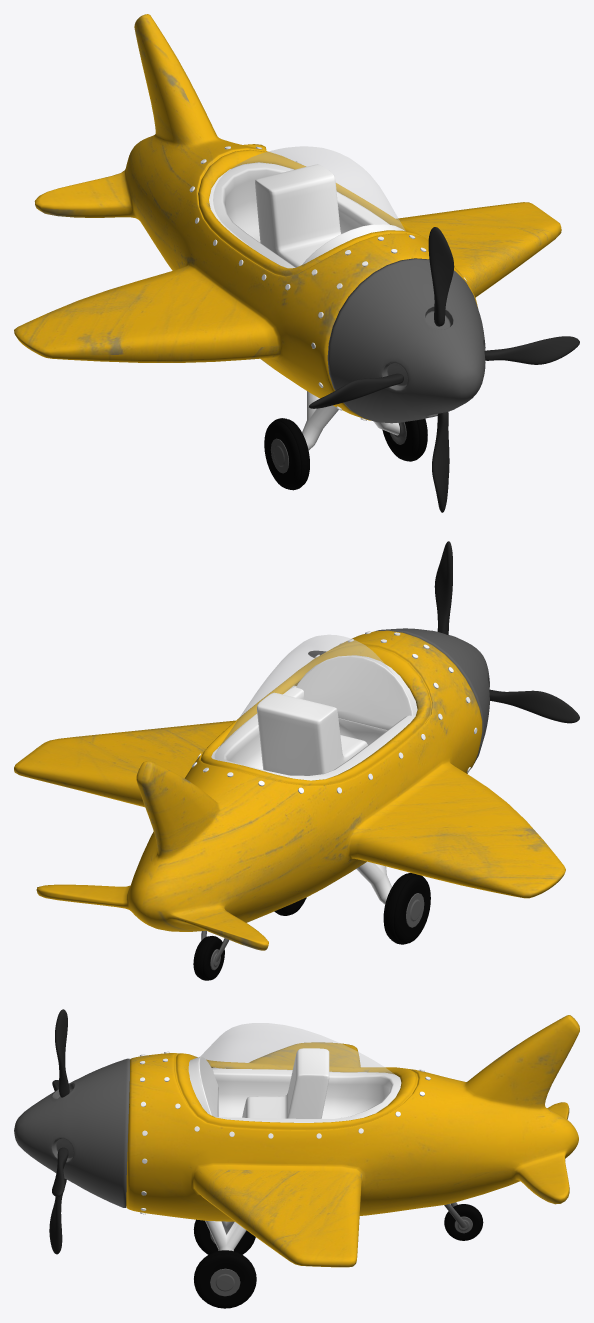
The model's file is toy_plane.glb.
The picture shows the model from 3 angles, top to bottom: view 1: azimuth 30°, elevation 25°; view 2: azimuth 150°, elevation 25°; view 3: azimuth 270°, elevation 25°; orthographic projection. The views are drawn at different scales.
Visible parts, largest first — view 1: Body_9, head_7, Window_11, Cube_17, Plane.004_8, Cube.001_82, front_wheels_13, Y_part_14, Cylinder_10, Circle.001_16; view 2: Body_9, Window_11, Cylinder_10, Cube_17, Plane.004_8, Cube.001_82, head_7, front_wheels_13, Circle.003_12, Y_part_14; view 3: Body_9, Window_11, head_7, Cube.001_82, Cube_17, front_wheels_13, Plane.004_8, Cylinder_10, Circle.003_12, Y_part_14, Circle.001_16.
Part boxes in pixels (left/top/right/bottom): Body_9: left=14, top=14, right=561, bottom=420; head_7: left=327, top=258, right=485, bottom=423; Window_11: left=213, top=146, right=405, bottom=267; Cube_17: left=255, top=164, right=340, bottom=267; Plane.004_8: left=309, top=227, right=579, bottom=512; Cube.001_82: left=209, top=162, right=389, bottom=268; front_wheels_13: left=264, top=418, right=427, bottom=490; Y_part_14: left=302, top=391, right=399, bottom=450; Cylinder_10: left=302, top=224, right=404, bottom=264; Circle.001_16: left=271, top=422, right=406, bottom=473; Body_9: left=14, top=630, right=565, bottom=950; Window_11: left=215, top=635, right=416, bottom=778; Cylinder_10: left=296, top=655, right=417, bottom=744; Cube_17: left=257, top=692, right=367, bottom=775; Plane.004_8: left=308, top=541, right=579, bottom=723; Cube.001_82: left=211, top=685, right=415, bottom=780; head_7: left=375, top=628, right=489, bottom=768; front_wheels_13: left=274, top=873, right=430, bottom=944; Circle.003_12: left=193, top=936, right=224, bottom=980; Y_part_14: left=356, top=861, right=391, bottom=904; Body_9: left=126, top=1015, right=579, bottom=1267; Window_11: left=200, top=1023, right=400, bottom=1122; head_7: left=14, top=1058, right=129, bottom=1207; Cube.001_82: left=212, top=1067, right=401, bottom=1122; Cube_17: left=242, top=1048, right=329, bottom=1118; front_wheels_13: left=193, top=1219, right=256, bottom=1308; Plane.004_8: left=49, top=1009, right=69, bottom=1254; Cylinder_10: left=188, top=1056, right=218, bottom=1117; Circle.003_12: left=444, top=1204, right=483, bottom=1240; Y_part_14: left=205, top=1220, right=246, bottom=1251; Circle.001_16: left=210, top=1232, right=240, bottom=1296.
Size of the model in its own units: 1.94 by 1.12 by 2.11.
Materials: 9 (2 with a texture image).
